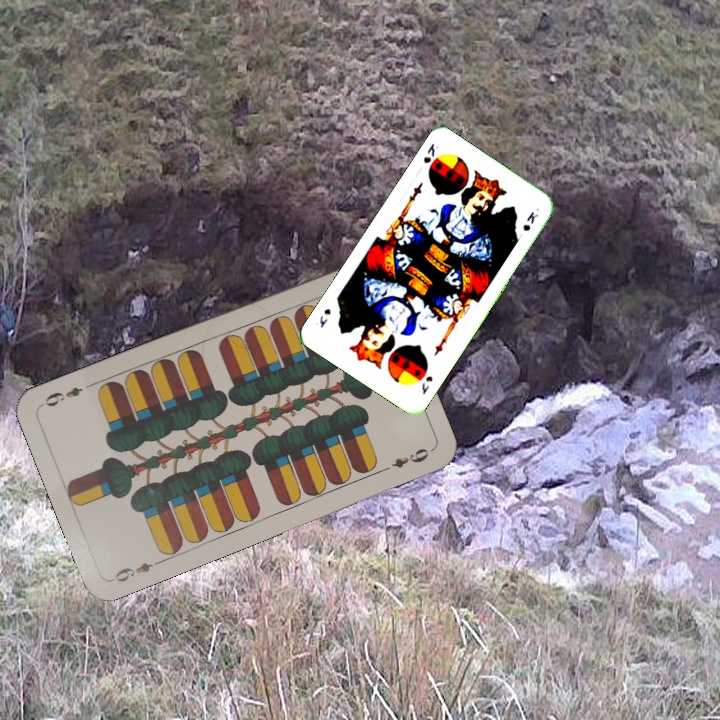E9: (108, 556, 165, 585)
SK: (419, 139, 441, 166), (417, 372, 435, 397)
